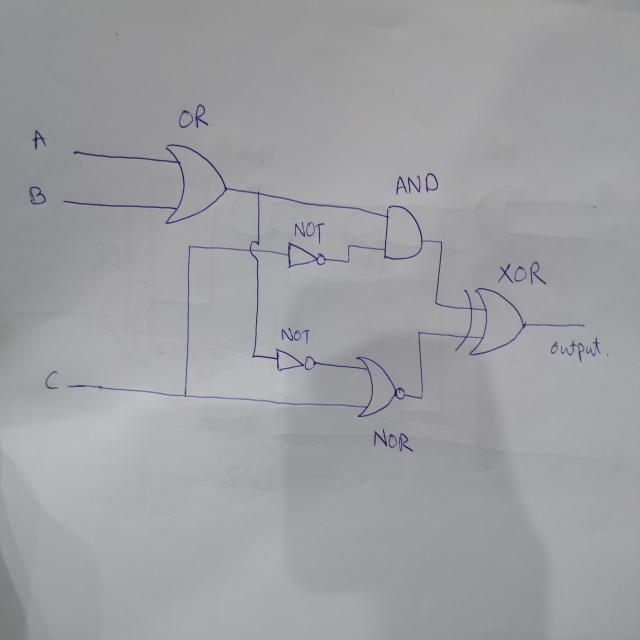crossover: (248, 238, 260, 264)
junction: (436, 236, 446, 247), (255, 186, 262, 198), (415, 327, 423, 337), (418, 391, 425, 402), (186, 241, 193, 252), (181, 390, 188, 400), (432, 297, 439, 307), (250, 350, 257, 360), (345, 258, 350, 265), (345, 242, 350, 248)
terminal: (577, 319, 589, 330), (59, 195, 69, 206), (71, 146, 79, 158), (65, 381, 73, 391)
text: (549, 332, 603, 364), (496, 258, 548, 288), (373, 426, 415, 456), (394, 171, 439, 197), (176, 103, 210, 131), (292, 219, 326, 245), (278, 325, 310, 345), (26, 180, 48, 208), (30, 124, 48, 152), (44, 366, 60, 390)
